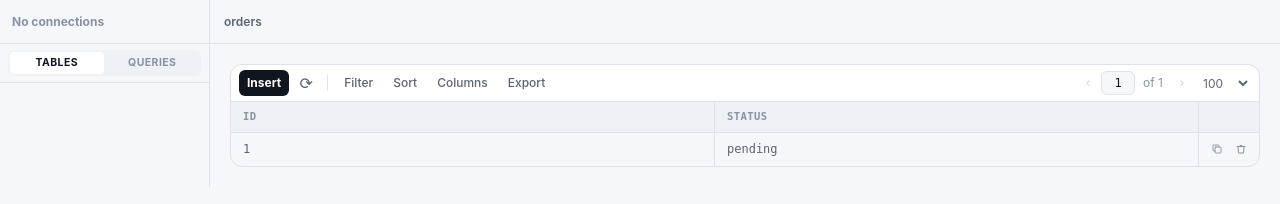
Scenario: DbTab › inline cell editing › cancelling an edit discards the draft and stages nothing
Click the text "pending": [752, 149] box [727,142,778,156]
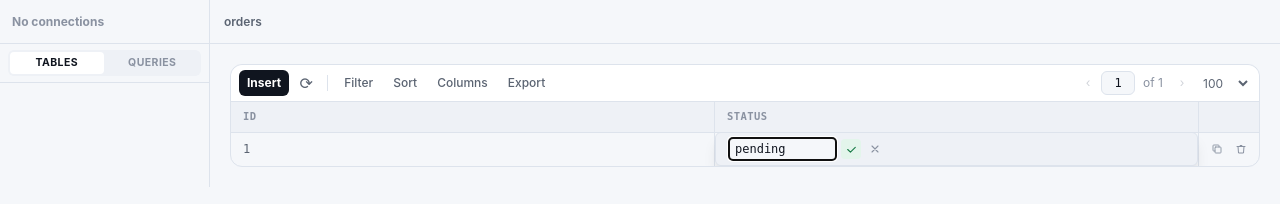
Replace the text in the field named "Edit status" with "shipped": [782, 149] box [728,137,837,161]
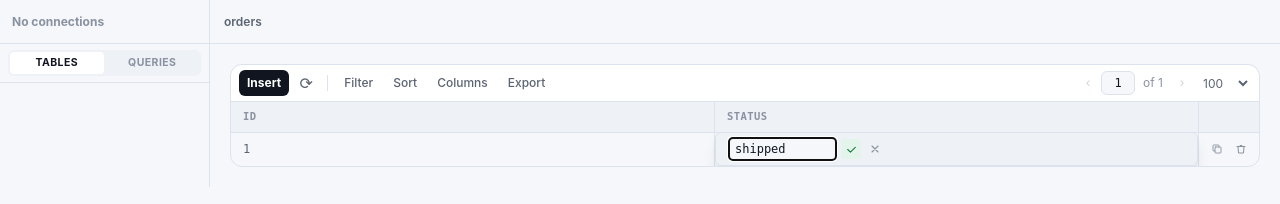
Click the button named "Cancel edit": [875, 149] box [865,139,885,159]
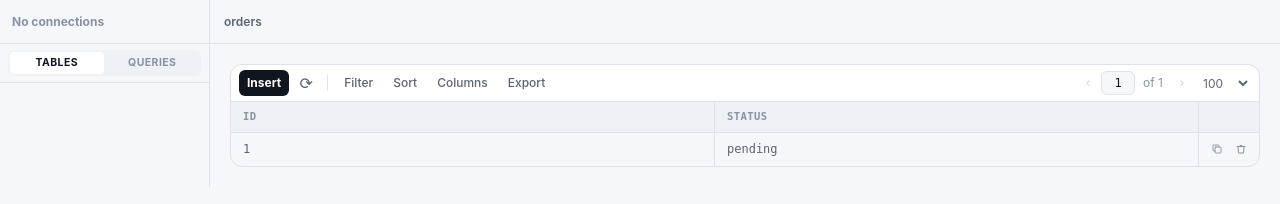
expect the text "pending" is shown: met, box [727,142,778,156]
